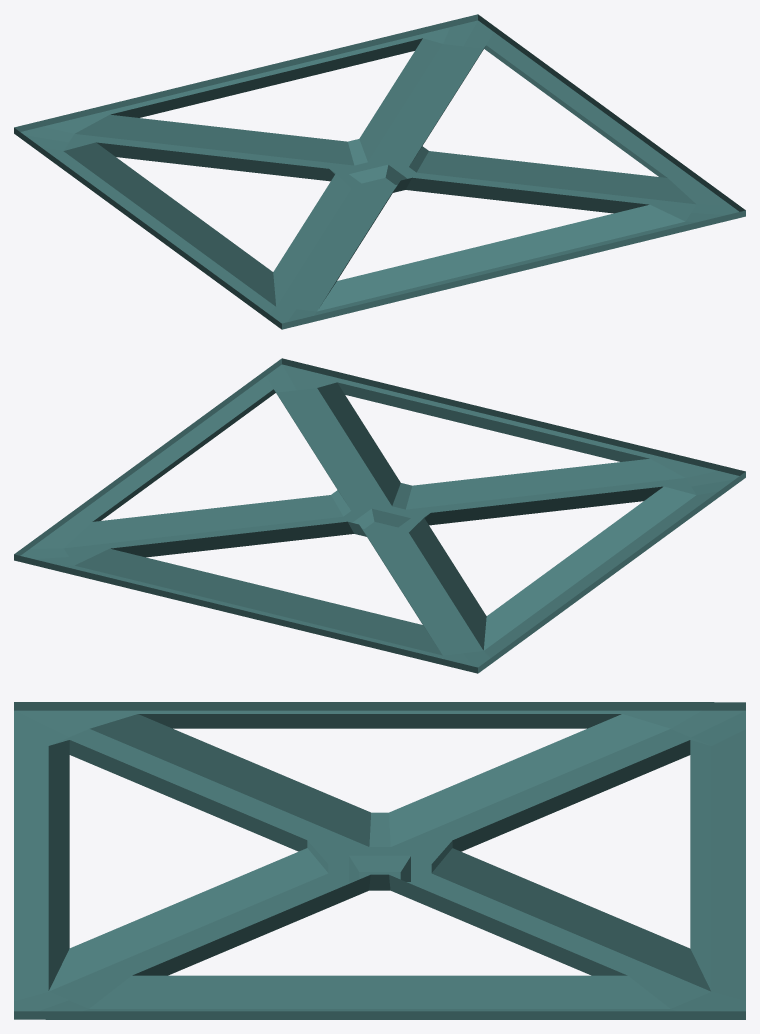
File: OpenFlat_CrossBeams2.fbx
3 views of the same model, one above another, from view 1: azimuth 30°, elevation 25°; view 2: azimuth 150°, elevation 25°; view 3: azimuth 270°, elevation 25° (orthographic). The views are drawn at different scales.
Visible parts, largest first — view 1: OpenFlat_CrossBeams2; view 2: OpenFlat_CrossBeams2; view 3: OpenFlat_CrossBeams2.
Boxes of the visible parts, left/top/right/bottom form: OpenFlat_CrossBeams2: left=14, top=14, right=745, bottom=329; OpenFlat_CrossBeams2: left=14, top=358, right=745, bottom=673; OpenFlat_CrossBeams2: left=14, top=702, right=745, bottom=1019.
Size of the model in its own units: 400 by 22.12 by 400.
